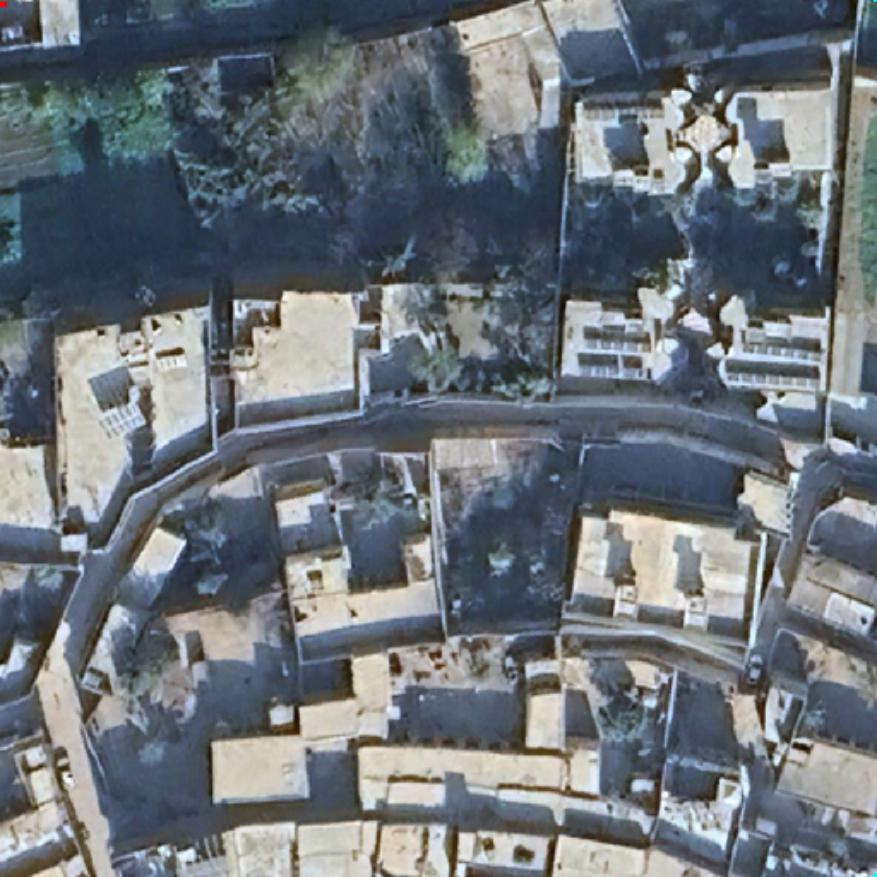Solarpanel: (94, 397, 148, 444), (737, 340, 825, 364), (578, 330, 654, 354), (726, 372, 822, 390), (582, 102, 666, 122), (570, 366, 652, 380), (150, 352, 190, 368)
